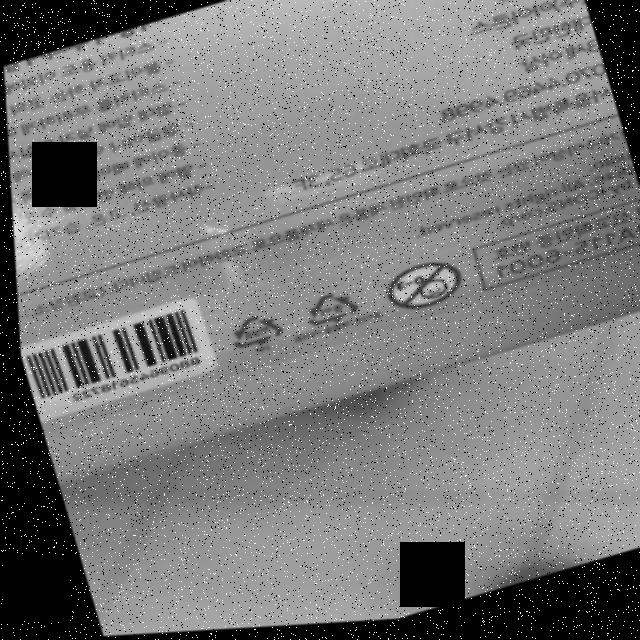Paper: (297, 287, 360, 334)
Vinyl: (219, 308, 284, 356)
